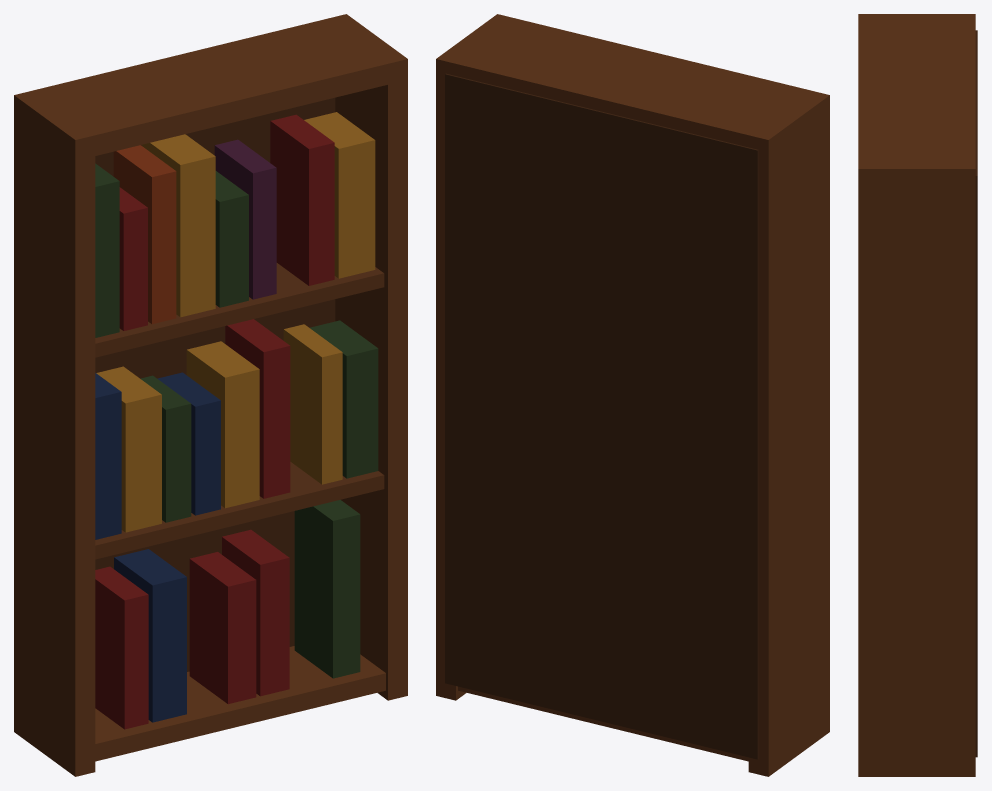
File: bookshelf.obj
The picture shows the model from 3 angles, left to right: view 1: azimuth 30°, elevation 25°; view 2: azimuth 150°, elevation 25°; view 3: azimuth 270°, elevation 25°; orthographic projection. The views are drawn at different scales.
Size of the model in its own units: 1 by 1.83 by 0.325.
